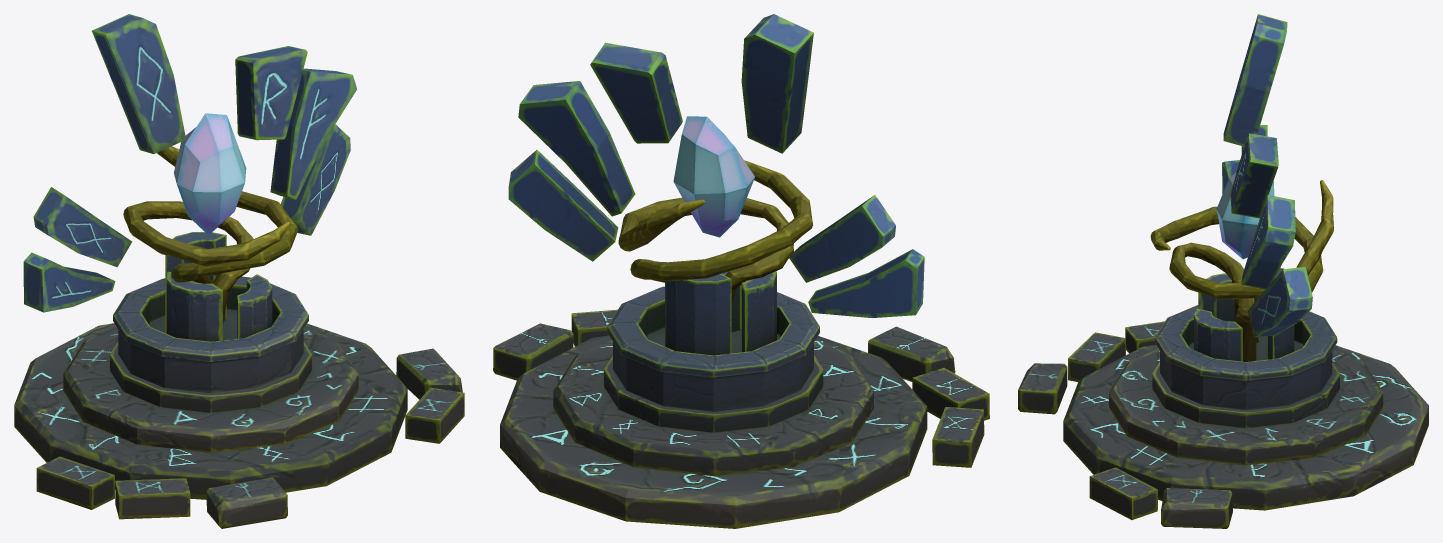
The picture shows the model from 3 angles, left to right: view 1: azimuth 30°, elevation 25°; view 2: azimuth 150°, elevation 25°; view 3: azimuth 270°, elevation 25°; orthographic projection. The views are drawn at different scales.
Parts seen in each view (by area): view 1: f921f7e6-a38a-4fa2-9193-54518f659435, bbbb7e95-90b3-48f2-8290-28b6f2735bb4, f3242812-61c2-4993-aa96-c7502d6711d1, 5126fe6c-11a1-4ebe-aebc-ad9521ba707b, b9041fe1-c1b9-4e78-918d-7fd414ddaa5f, dd8ab7d7-4fe4-4484-8ba9-5590d36bef29, 22008b67-482d-4c4e-82bb-73b2f44bff5d, ebb37801-7705-4201-9361-c4d0a650b558, f231b38a-b197-40fd-bb85-8be72a1bb825, ec44d565-bd47-4025-bbde-0f67fa5416f3, 99773220-7365-4b76-bb12-9d21abb7ca6b, 565e2933-ba9c-471d-8bc6-bf52abff05ff (+8 smaller); view 2: f921f7e6-a38a-4fa2-9193-54518f659435, bbbb7e95-90b3-48f2-8290-28b6f2735bb4, f3242812-61c2-4993-aa96-c7502d6711d1, 5126fe6c-11a1-4ebe-aebc-ad9521ba707b, dd8ab7d7-4fe4-4484-8ba9-5590d36bef29, b9041fe1-c1b9-4e78-918d-7fd414ddaa5f, 22008b67-482d-4c4e-82bb-73b2f44bff5d, 565e2933-ba9c-471d-8bc6-bf52abff05ff, ec44d565-bd47-4025-bbde-0f67fa5416f3, ebb37801-7705-4201-9361-c4d0a650b558, 9609b126-b29e-49cf-be35-6973c7f30532, f231b38a-b197-40fd-bb85-8be72a1bb825 (+7 smaller); view 3: f921f7e6-a38a-4fa2-9193-54518f659435, bbbb7e95-90b3-48f2-8290-28b6f2735bb4, f3242812-61c2-4993-aa96-c7502d6711d1, 5126fe6c-11a1-4ebe-aebc-ad9521ba707b, 35937033-a18a-414f-9457-1048fc744c77, dd8ab7d7-4fe4-4484-8ba9-5590d36bef29, 565e2933-ba9c-471d-8bc6-bf52abff05ff, 22008b67-482d-4c4e-82bb-73b2f44bff5d, 941fbba6-e0a0-48c7-9850-926cc12c8ad8, ebb37801-7705-4201-9361-c4d0a650b558, 1b203231-eebd-4020-aaaf-3aef87c589e4, 5cd7ee0d-8e2e-4382-aa1d-9f7420cedcee (+6 smaller).
Boxes of the visible parts, <box> form: f921f7e6-a38a-4fa2-9193-54518f659435: <box>14,323,407,499</box>; bbbb7e95-90b3-48f2-8290-28b6f2735bb4: <box>110,276,311,412</box>; f3242812-61c2-4993-aa96-c7502d6711d1: <box>63,327,358,452</box>; 5126fe6c-11a1-4ebe-aebc-ad9521ba707b: <box>92,14,186,153</box>; b9041fe1-c1b9-4e78-918d-7fd414ddaa5f: <box>174,113,246,235</box>; dd8ab7d7-4fe4-4484-8ba9-5590d36bef29: <box>270,68,356,199</box>; 22008b67-482d-4c4e-82bb-73b2f44bff5d: <box>235,46,307,140</box>; ebb37801-7705-4201-9361-c4d0a650b558: <box>123,201,290,325</box>; f231b38a-b197-40fd-bb85-8be72a1bb825: <box>33,187,132,267</box>; ec44d565-bd47-4025-bbde-0f67fa5416f3: <box>23,252,115,312</box>; 99773220-7365-4b76-bb12-9d21abb7ca6b: <box>166,271,222,341</box>; 565e2933-ba9c-471d-8bc6-bf52abff05ff: <box>280,124,350,235</box>; f921f7e6-a38a-4fa2-9193-54518f659435: <box>500,335,927,528</box>; bbbb7e95-90b3-48f2-8290-28b6f2735bb4: <box>604,286,823,432</box>; f3242812-61c2-4993-aa96-c7502d6711d1: <box>553,340,873,476</box>; 5126fe6c-11a1-4ebe-aebc-ad9521ba707b: <box>741,14,813,153</box>; dd8ab7d7-4fe4-4484-8ba9-5590d36bef29: <box>518,81,635,216</box>; b9041fe1-c1b9-4e78-918d-7fd414ddaa5f: <box>673,116,754,237</box>; 22008b67-482d-4c4e-82bb-73b2f44bff5d: <box>590,42,682,143</box>; 565e2933-ba9c-471d-8bc6-bf52abff05ff: <box>508,150,618,261</box>; ec44d565-bd47-4025-bbde-0f67fa5416f3: <box>808,249,924,317</box>; ebb37801-7705-4201-9361-c4d0a650b558: <box>630,160,812,282</box>; 9609b126-b29e-49cf-be35-6973c7f30532: <box>665,274,731,355</box>; f231b38a-b197-40fd-bb85-8be72a1bb825: <box>788,195,895,282</box>; f921f7e6-a38a-4fa2-9193-54518f659435: <box>1063,345,1428,510</box>; bbbb7e95-90b3-48f2-8290-28b6f2735bb4: <box>1152,305,1339,428</box>; f3242812-61c2-4993-aa96-c7502d6711d1: <box>1109,349,1383,465</box>; 5126fe6c-11a1-4ebe-aebc-ad9521ba707b: <box>1223,14,1287,146</box>; 35937033-a18a-414f-9457-1048fc744c77: <box>1169,180,1333,359</box>; dd8ab7d7-4fe4-4484-8ba9-5590d36bef29: <box>1241,195,1295,289</box>; 565e2933-ba9c-471d-8bc6-bf52abff05ff: <box>1247,267,1312,337</box>; 22008b67-482d-4c4e-82bb-73b2f44bff5d: <box>1230,133,1278,218</box>; 941fbba6-e0a0-48c7-9850-926cc12c8ad8: <box>1161,488,1232,528</box>; ebb37801-7705-4201-9361-c4d0a650b558: <box>1150,206,1323,361</box>; 1b203231-eebd-4020-aaaf-3aef87c589e4: <box>1089,467,1157,519</box>; 5cd7ee0d-8e2e-4382-aa1d-9f7420cedcee: <box>1018,363,1067,414</box>.
Size of the model in its own units: 53.56 by 50.1 by 48.83.
1 material, 1 textured.
